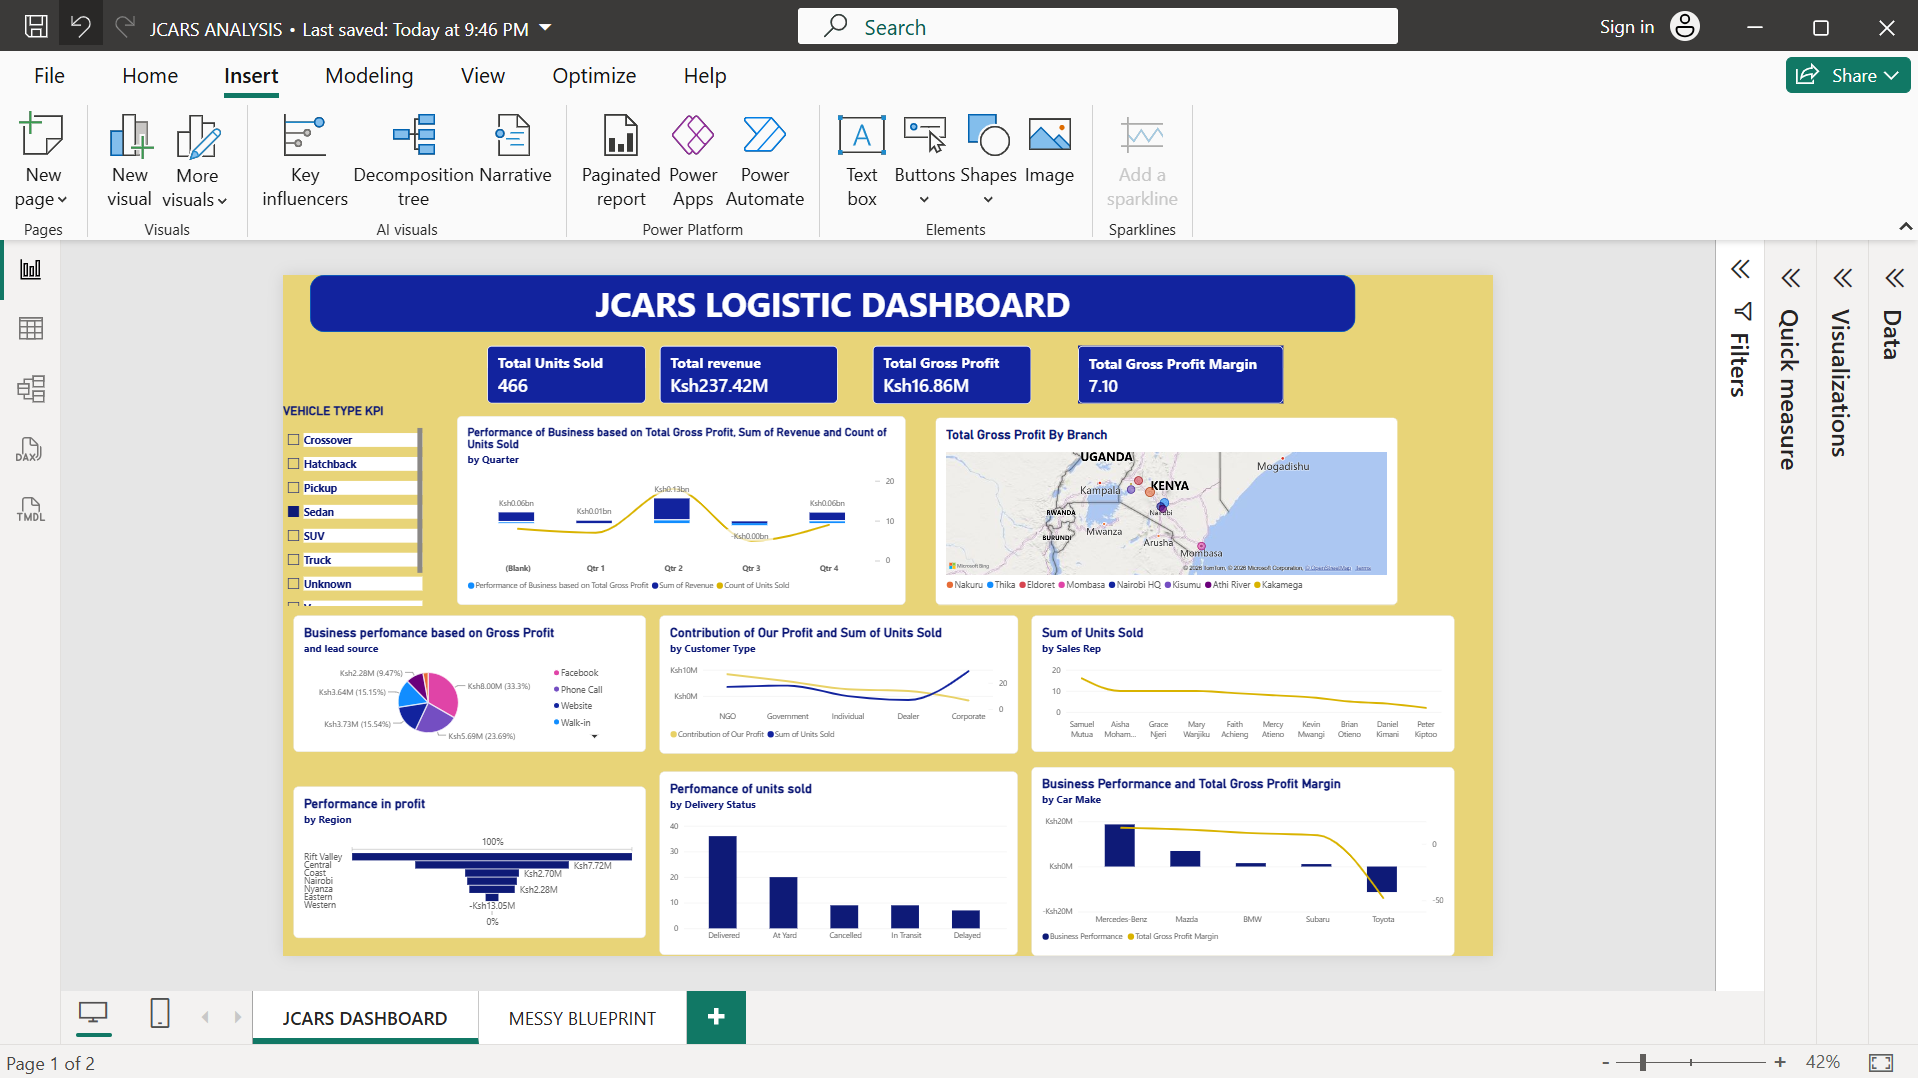

The page's visual inventory and layout, read from the dashboard file:
{"tool":"powerbi","page":{"name":"JCARS DASHBOARD","canvas":[1920,1080],"ordinal":0},"visuals":[{"type":"cardVisual","fields":{"Data":["DIM-CUSTOMER.Total Units Sold"]},"box":[323.8,111.9,252.4,92.9],"z":0},{"type":"cardVisual","fields":{"Data":["DIM-CUSTOMER.Total revenue"]},"box":[597.6,111.9,283.3,92.9],"z":1000},{"type":"cardVisual","fields":{"Data":["DIM-CUSTOMER.Total Gross Profit"]},"box":[935.7,111.9,252.1,93.1],"z":2000},{"type":"cardVisual","fields":{"Data":["DIM-CUSTOMER.Total Gross Profit Margin"]},"box":[1261.9,111.9,326.2,92.9],"z":3000},{"type":"map","title":"Total Gross Profit By Branch","fields":{"Series":["FACT TABLE 2.Branch"],"Size":["DIM-CUSTOMER.Total Gross Profit"],"Category":["FACT TABLE 2.Branch"]},"box":[1035.7,226.2,733.3,297.6],"z":4000},{"type":"lineChart","fields":{"Category":["FACT TABLE 2.Customer Type"],"Y":["DIM-CUSTOMER.Total Gross Profit"],"Y2":["Sum(FACT TABLE 2.Units Sold)"]},"box":[597.6,540.5,569,219],"z":5000},{"type":"lineStackedColumnComboChart","fields":{"Category":["DIM-VEHICLE.Car Make"],"Y":["DIM-CUSTOMER.Total Gross Profit"],"Y2":["DIM-CUSTOMER.Total Gross Profit Margin"]},"box":[1188.1,781,671.4,300],"z":6000},{"type":"pieChart","title":"Business perfomance based on Gross Profit","fields":{"Category":["DIM-LEAD SOURCE.Lead Source"],"Y":["DIM-CUSTOMER.Total Gross Profit"]},"box":[16.7,540.5,559.5,216.7],"z":7000},{"type":"funnel","fields":{"Category":["FACT TABLE 2.Region"],"Y":["DIM-CUSTOMER.Total Gross Profit"]},"box":[16.7,811.9,559.5,240.5],"z":8000},{"type":"lineChart","fields":{"Category":["DIM-SALES REP.Sales Rep"],"Y":["Sum(FACT TABLE 2.Units Sold)"]},"box":[1188.1,540.5,671.4,216.7],"z":9000},{"type":"clusteredColumnChart","fields":{"Category":["FACT TABLE 2.Delivery Status"],"Y":["Sum(FACT TABLE 2.Units Sold)"]},"box":[596.8,788.7,568.4,291.3],"z":12000},{"type":"lineStackedColumnComboChart","fields":{"Category":["FACT TABLE 2.Delivery Date.Variation.Date Hierarchy.Quarter"],"Y":["DIM-CUSTOMER.Total Gross Profit","Sum(FACT TABLE 2.Revenue)"],"Y2":["CountNonNull(FACT TABLE 2.Units Sold)"]},"box":[276.2,223.8,711.9,300],"z":12001},{"type":"slicer","title":"VEHICLE TYPE KPI","fields":{"Values":["DIM-VEHICLE.Vehicle Type"]},"box":[0,204.8,221.4,319],"z":12002},{"type":"shape","box":[42.9,0,1659.5,90.5],"z":12003},{"type":"actionButton","box":[0,0,100,40],"z":12004}]}

Visuals, with their boxes on the page's 1920x1080 design canvas (x1, y1, x2, y2). These are canvas units, not pixel positions in the 1918x1078 screenshot, which may show the page scaled, cropped or inside an application window:
cardVisual - DIM-CUSTOMER.Total Units Sold: detection(324, 112, 576, 205)
cardVisual - DIM-CUSTOMER.Total revenue: detection(598, 112, 881, 205)
cardVisual - DIM-CUSTOMER.Total Gross Profit: detection(936, 112, 1188, 205)
cardVisual - DIM-CUSTOMER.Total Gross Profit Margin: detection(1262, 112, 1588, 205)
"Total Gross Profit By Branch" map: detection(1036, 226, 1769, 524)
lineChart - FACT TABLE 2.Customer Type x DIM-CUSTOMER.Total Gross Profit: detection(598, 540, 1167, 760)
lineStackedColumnComboChart - DIM-VEHICLE.Car Make x DIM-CUSTOMER.Total Gross Profit: detection(1188, 781, 1860, 1081)
"Business perfomance based on Gross Profit" pieChart: detection(17, 540, 576, 757)
funnel - FACT TABLE 2.Region x DIM-CUSTOMER.Total Gross Profit: detection(17, 812, 576, 1052)
lineChart - DIM-SALES REP.Sales Rep x Sum(FACT TABLE 2.Units Sold): detection(1188, 540, 1860, 757)
clusteredColumnChart - FACT TABLE 2.Delivery Status x Sum(FACT TABLE 2.Units Sold): detection(597, 789, 1165, 1080)
lineStackedColumnComboChart - FACT TABLE 2.Delivery Date.Variation.Date Hierarchy.Quarter x DIM-CUSTOMER.Total Gross Profit: detection(276, 224, 988, 524)
"VEHICLE TYPE KPI" slicer: detection(0, 205, 221, 524)
shape: detection(43, 0, 1702, 90)
actionButton: detection(0, 0, 100, 40)
